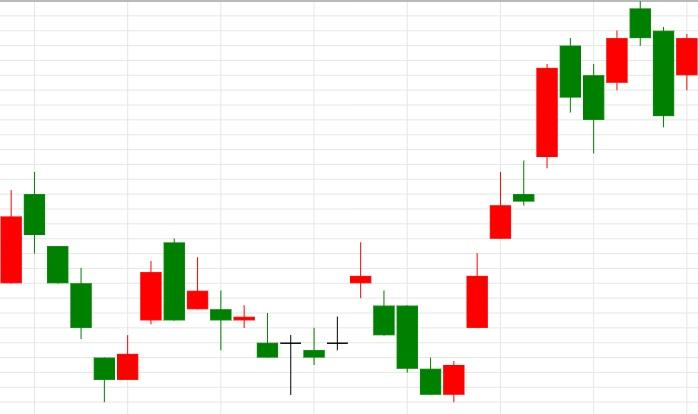three_white_soldiers_rise: (349, 170, 512, 403)
